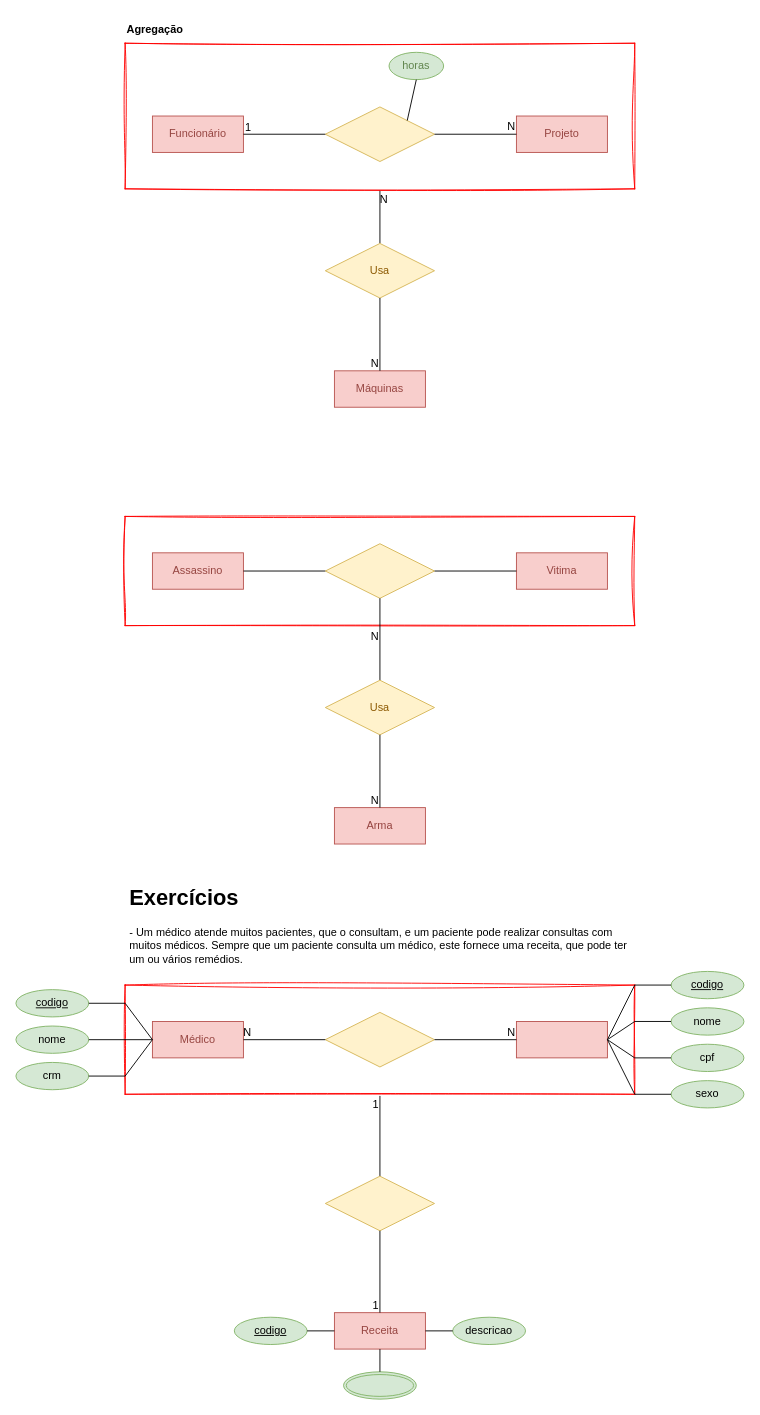
Image size: 760x1415. Some labels were removed from this diagram. Each missing label, with the centre of its shape:
Assassina: point 379,570
atende: point 379,1039
Pacientes: point 561,1039
remedios: point 379,1385
Trabalha: point 379,134
